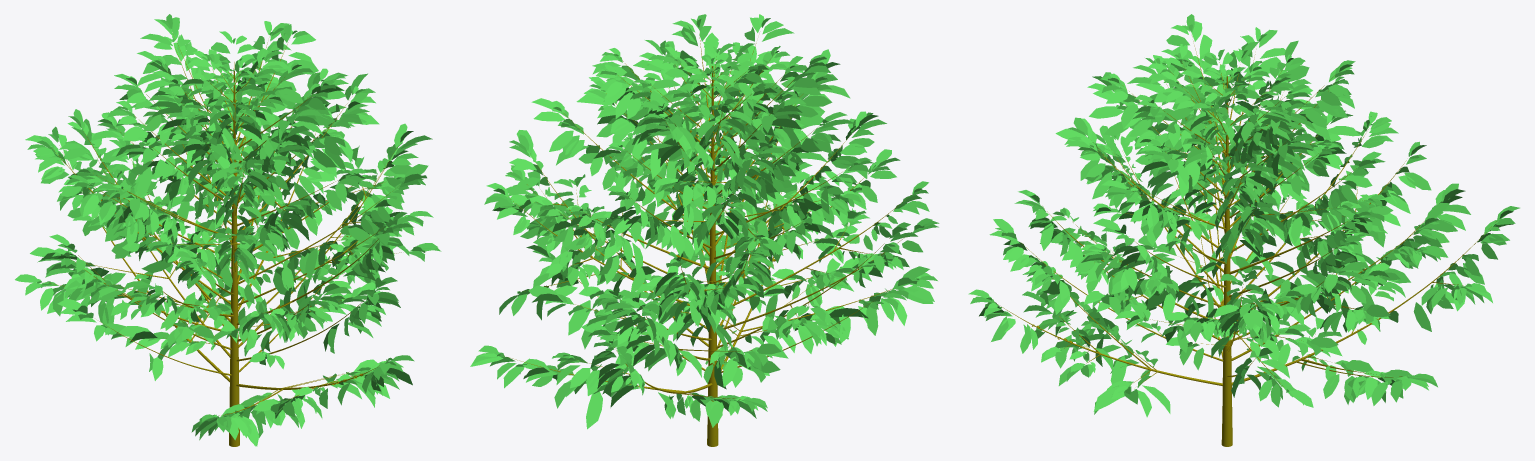
The model's file is coffee-tree.glb.
3 renders of one model, left to right at view 1: azimuth 30°, elevation 25°; view 2: azimuth 150°, elevation 25°; view 3: azimuth 270°, elevation 25°, orthographic. The views are drawn at different scales.
Parts seen in each view (by area): view 1: Object_3, Object_4; view 2: Object_3, Object_4; view 3: Object_3, Object_4.
Part boxes in pixels (<box>): Object_3: <box>15,14,441,446</box>; Object_4: <box>48,39,405,446</box>; Object_3: <box>470,14,939,429</box>; Object_4: <box>508,37,910,446</box>; Object_3: <box>968,14,1519,417</box>; Object_4: <box>998,36,1496,446</box>.
Bounding box in the file's own units: 1.69 × 1.6 × 2.08.
